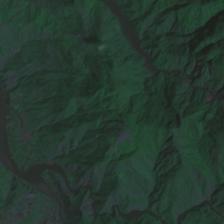landslides: (187, 62, 206, 82), (181, 101, 192, 117)
